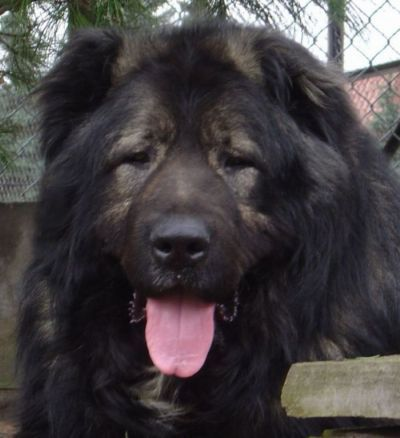cau_ovcharka: (11, 21, 400, 438)
